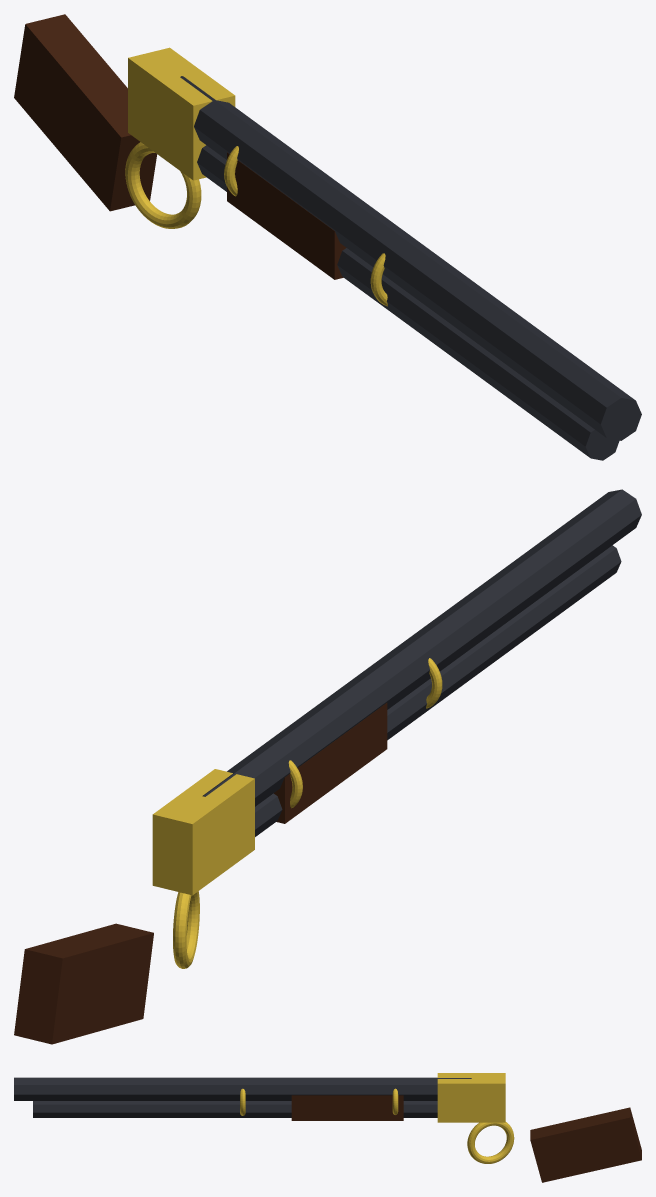
File: fps_rifle.obj
3 renders of one model, top to bottom at view 1: azimuth 30°, elevation 25°; view 2: azimuth 150°, elevation 25°; view 3: azimuth 270°, elevation 25°, orthographic. The views are drawn at different scales.
Parts seen in each view (by area): view 1: Cylinder, Cube, Cylinder.001, Cube.001, Cube.002, Torus; view 2: Cylinder, Cube, Cube.001, Cylinder.001, Cube.002, Torus; view 3: Cylinder, Cube, Cylinder.001, Cube.001, Cube.002, Torus.
Part boxes in pixels (bbox=[...]): Cylinder: bbox=[180, 76, 641, 440]; Cube: bbox=[14, 14, 157, 211]; Cylinder.001: bbox=[197, 145, 619, 460]; Cube.001: bbox=[128, 47, 235, 180]; Cube.002: bbox=[227, 152, 346, 279]; Torus: bbox=[125, 142, 201, 228]; Cylinder: bbox=[202, 489, 641, 806]; Cube: bbox=[14, 923, 153, 1044]; Cube.001: bbox=[152, 769, 254, 895]; Cylinder.001: bbox=[255, 545, 621, 836]; Cube.002: bbox=[274, 703, 387, 823]; Torus: bbox=[173, 891, 199, 968]; Cylinder: bbox=[14, 1077, 471, 1100]; Cube: bbox=[530, 1107, 641, 1182]; Cylinder.001: bbox=[33, 1101, 437, 1117]; Cube.001: bbox=[437, 1073, 505, 1122]; Cube.002: bbox=[291, 1095, 403, 1120]; Torus: bbox=[467, 1122, 514, 1163].
Size of the model in its own units: 0.0416 by 0.1108 by 0.6586.
